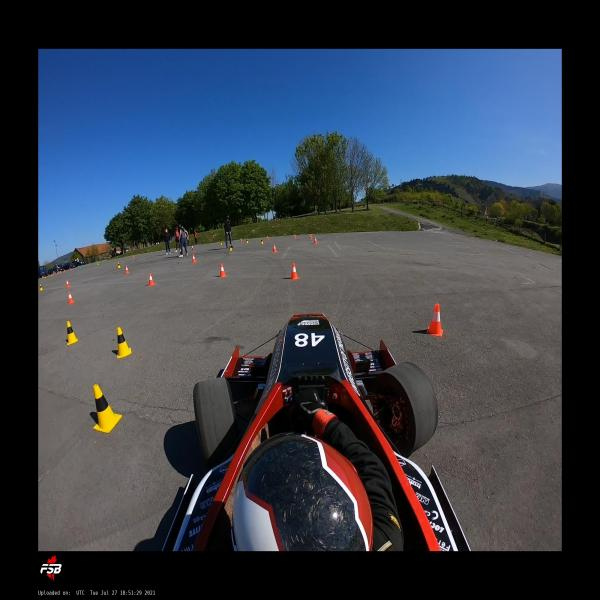orange_cone: (426, 303, 443, 337), (289, 264, 300, 280), (219, 264, 227, 278), (147, 273, 155, 286), (68, 292, 74, 304), (191, 254, 197, 262), (272, 244, 277, 253), (125, 264, 129, 274), (66, 279, 70, 288), (314, 237, 318, 244), (309, 234, 312, 240), (192, 245, 194, 250), (240, 238, 242, 242), (267, 236, 269, 240), (294, 234, 296, 238), (132, 254, 134, 258)
yellow_cone: (93, 384, 122, 433), (116, 327, 132, 358), (66, 321, 77, 346), (39, 283, 43, 292), (117, 262, 121, 269), (228, 244, 232, 251), (260, 238, 264, 244), (246, 238, 248, 244), (220, 241, 222, 245), (97, 262, 99, 265), (44, 276, 46, 279), (51, 274, 52, 276)
